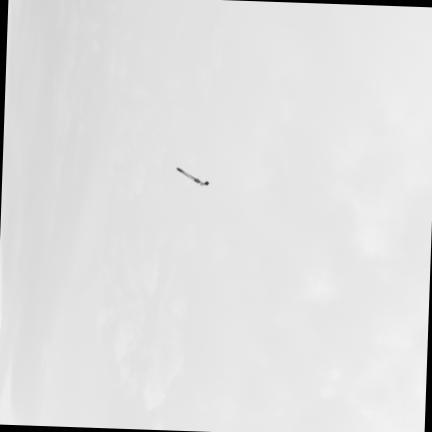Shahed: (176, 168, 208, 186)
